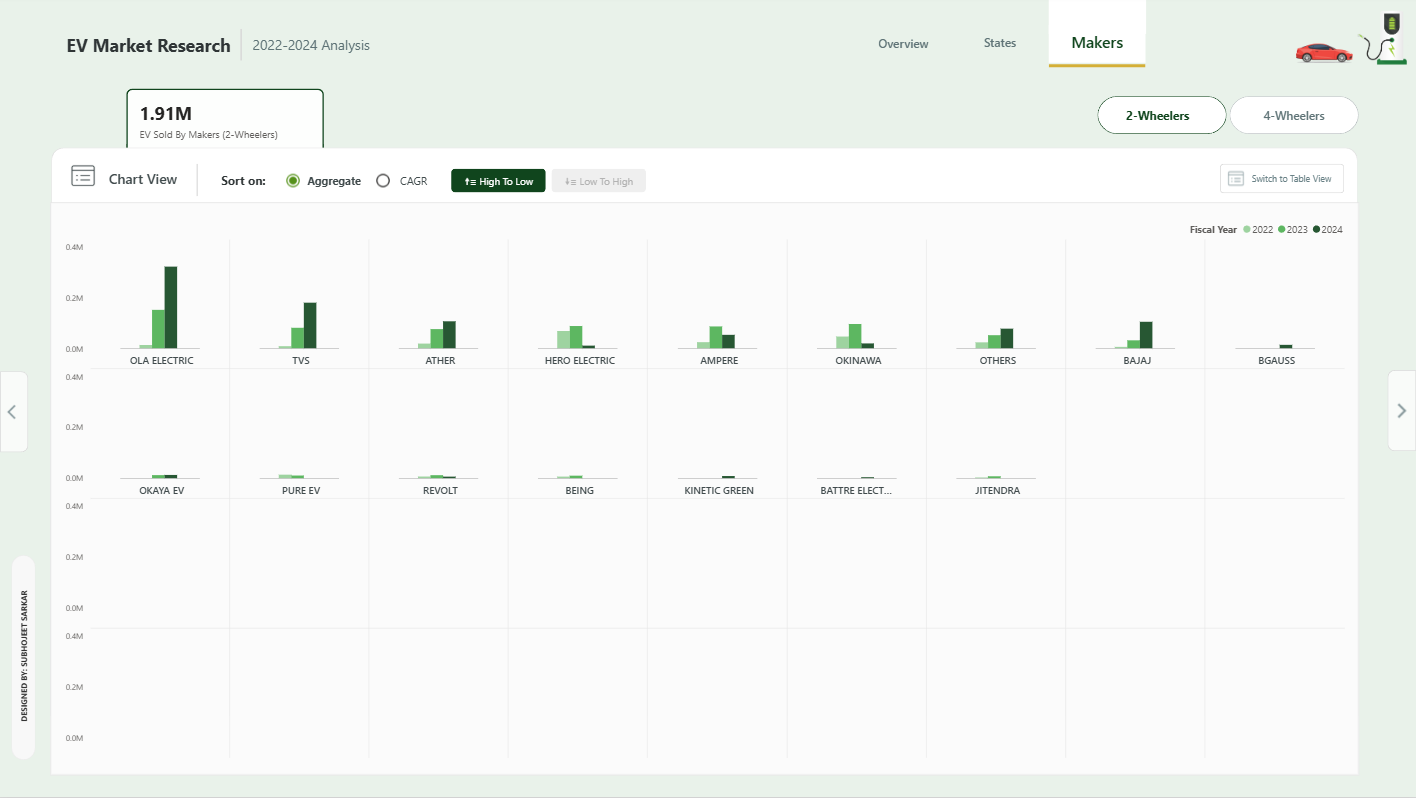

This screenshot's page, from the dashboard's own definition file:
{"tool":"powerbi","page":{"name":"Makers: 2","canvas":[1920,1080],"ordinal":5},"visuals":[{"type":"cardVisual","fields":{"Data":["KPIs.Total EV Sold by Makers"]},"box":[172,116,268,88],"z":0},{"type":"actionButton","title":"Aggregate Radio Button","box":[380.2,228,112,32],"z":0,"group":"g1"},{"type":"clusteredColumnChart","title":"Total EVs Sold by Makers","fields":{"Y":["KPIs.Total EV Sold by Makers"],"Series":["dim_date.Fiscal Year"],"Rows":["electric_vehicle_sales_by_makers.Maker"]},"box":[67.2,274,1775,777],"z":1000,"group":"g1"},{"type":"actionButton","box":[0,503.3,38.3,110],"z":1000},{"type":"shape","box":[70,200,1771.4,850],"z":2000},{"type":"actionButton","title":"Aggregate Radio Button","box":[502,228.4,80,32],"z":2000,"group":"g1"},{"type":"shape","box":[1422.2,83.3,131.1,12.2],"z":3000},{"type":"shape","box":[1422,0,132,46],"z":4000},{"type":"image","box":[1753.3,25,86.8,93.5],"z":5000},{"type":"image","box":[1828.2,0,91.8,100.2],"z":6000},{"type":"actionButton","box":[1881.2,502.5,38.8,110],"z":7000},{"type":"actionButton","box":[1158.8,33.8,131.2,48.8],"z":8000},{"type":"actionButton","box":[1290,32.2,132.2,50],"z":9000},{"type":"actionButton","box":[1422.5,33.8,131.2,51.2],"z":10000},{"type":"actionButton","box":[1655,221.7,168.3,40],"z":11000},{"type":"shape","box":[146.7,221.7,116.7,40],"z":12000},{"type":"shape","box":[300.2,218.3,72,50],"z":13000},{"type":"shape","box":[261.4,221.2,12.9,44.3],"z":14000},{"type":"group","id":"g1","title":"AGG by Makers View","box":[67.2,228,1775,823],"z":15000},{"type":"advancedSlicerVisual","fields":{"Values":["0201_SORT Order.SORT_Order"]},"box":[612,228,264,32],"z":17000},{"type":"shape","box":[90.5,41.6,229.8,36.2],"z":18000},{"type":"shape","box":[320,38.5,13.3,43.3],"z":19000},{"type":"shape","box":[341.6,41.9,268.3,36.7],"z":20000},{"type":"actionButton","box":[15,752,33,278],"z":21000},{"type":"advancedSlicerVisual","fields":{"Values":["Dim_Vehicle_type.Description"]},"box":[1488.3,130,355,51.7],"z":22000},{"type":"image","box":[90,209.8,45.7,55.7],"z":23000}]}

Visuals, with their boxes in screenshot pixels (x1, y1, x2, y2), scaled from the page's 1920x1080 canvas onto the 1416x798 screenshot:
cardVisual - KPIs.Total EV Sold by Makers: bbox=[127, 86, 324, 151]
"Aggregate Radio Button" actionButton: bbox=[280, 168, 363, 192]
"Total EVs Sold by Makers" clusteredColumnChart: bbox=[50, 202, 1359, 777]
actionButton: bbox=[0, 372, 28, 453]
shape: bbox=[52, 148, 1358, 776]
"Aggregate Radio Button" actionButton: bbox=[370, 169, 429, 192]
shape: bbox=[1049, 62, 1146, 71]
shape: bbox=[1049, 0, 1146, 34]
image: bbox=[1293, 18, 1357, 88]
image: bbox=[1348, 0, 1415, 74]
actionButton: bbox=[1387, 371, 1415, 453]
actionButton: bbox=[855, 25, 951, 61]
actionButton: bbox=[951, 24, 1049, 61]
actionButton: bbox=[1049, 25, 1146, 63]
actionButton: bbox=[1221, 164, 1345, 193]
shape: bbox=[108, 164, 194, 193]
shape: bbox=[221, 161, 274, 198]
shape: bbox=[193, 163, 202, 196]
"AGG by Makers View" group: bbox=[50, 168, 1359, 777]
advancedSlicerVisual - 0201_SORT Order.SORT_Order: bbox=[451, 168, 646, 192]
shape: bbox=[67, 31, 236, 57]
shape: bbox=[236, 28, 246, 60]
shape: bbox=[252, 31, 450, 58]
actionButton: bbox=[11, 556, 35, 761]
advancedSlicerVisual - Dim_Vehicle_type.Description: bbox=[1098, 96, 1359, 134]
image: bbox=[66, 155, 100, 196]
